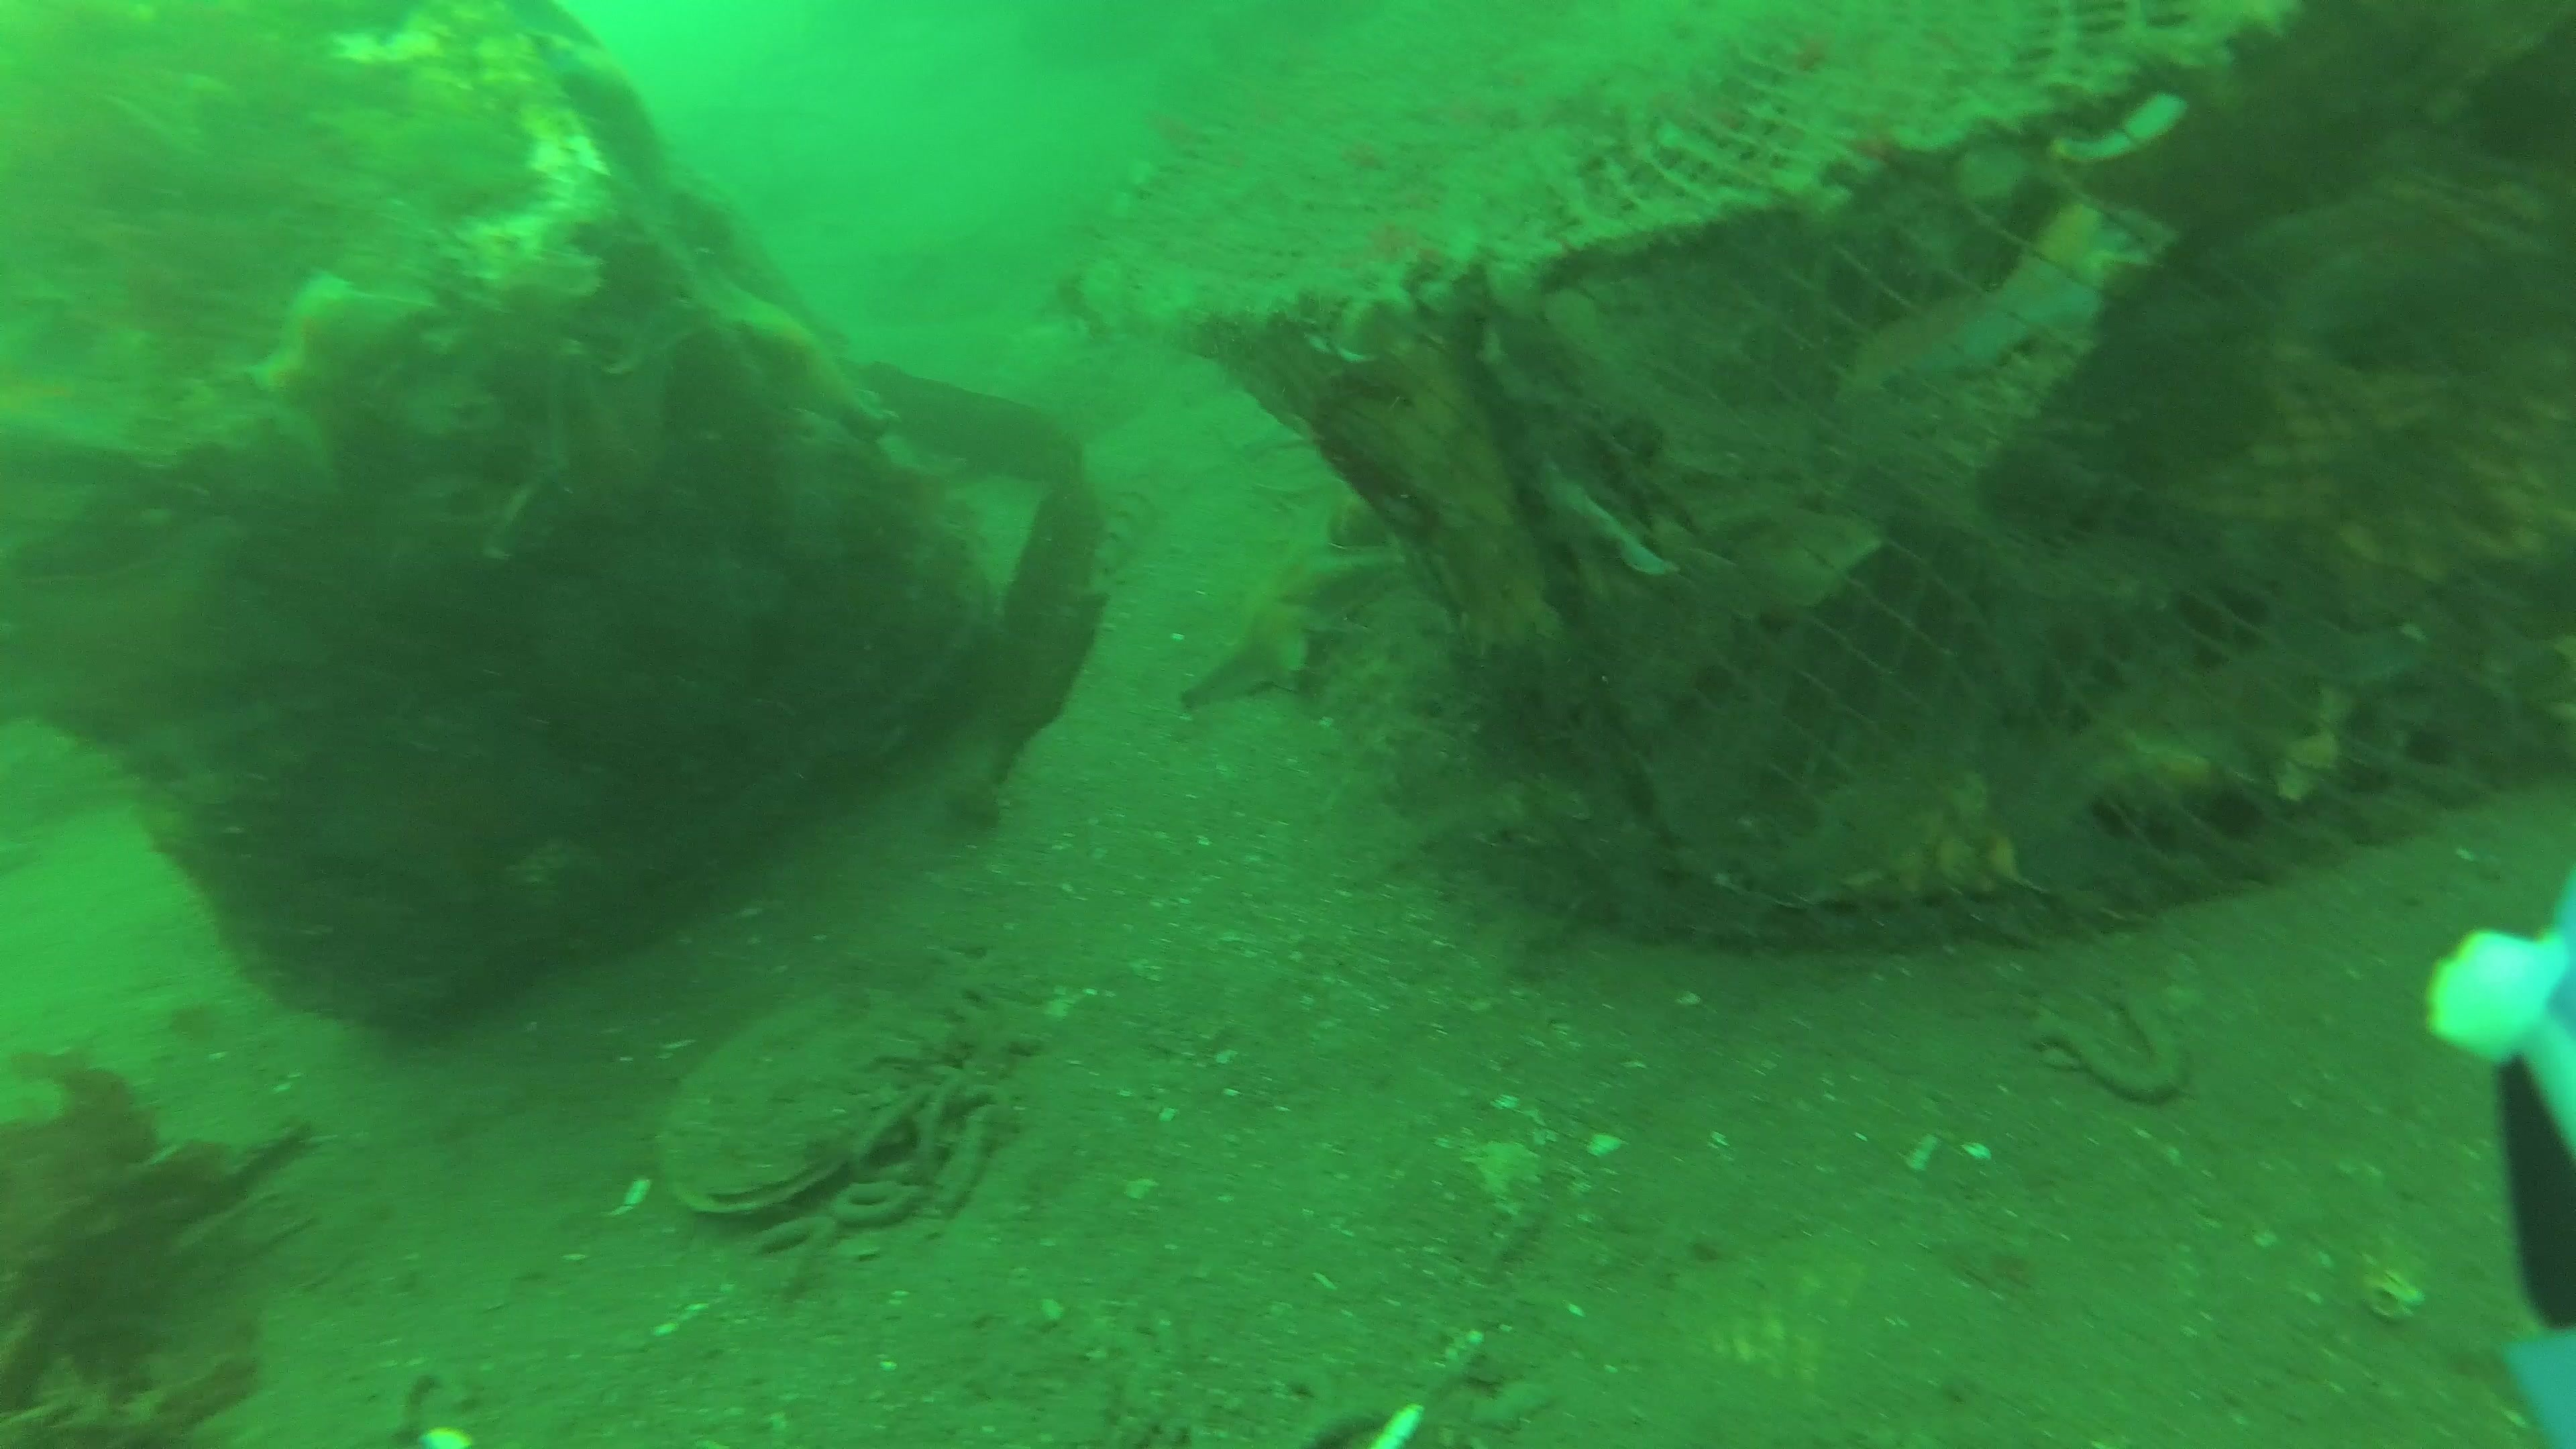scallop: (656, 993, 939, 1219)
starfish: (1146, 536, 1399, 711)
